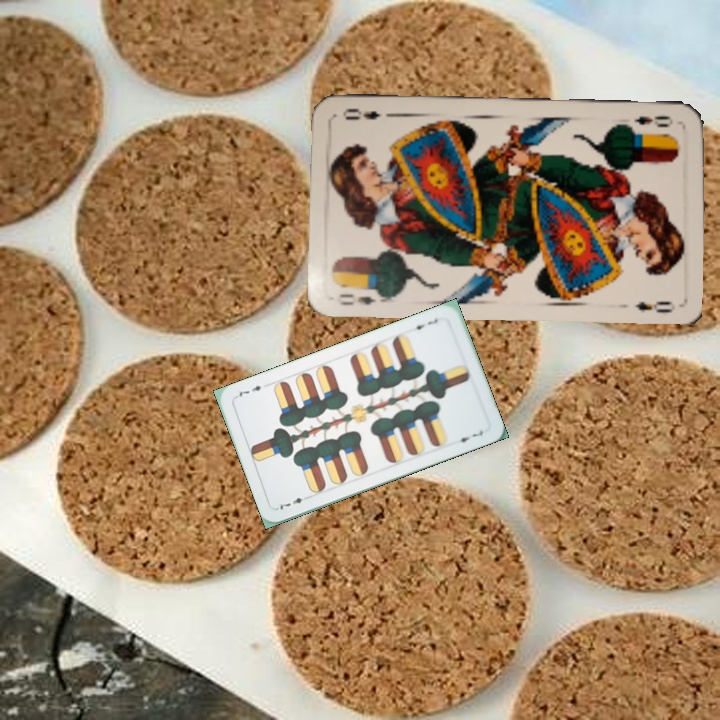E7: (273, 492, 313, 513), (407, 315, 440, 333)
EO: (630, 112, 676, 130), (335, 290, 378, 308)
